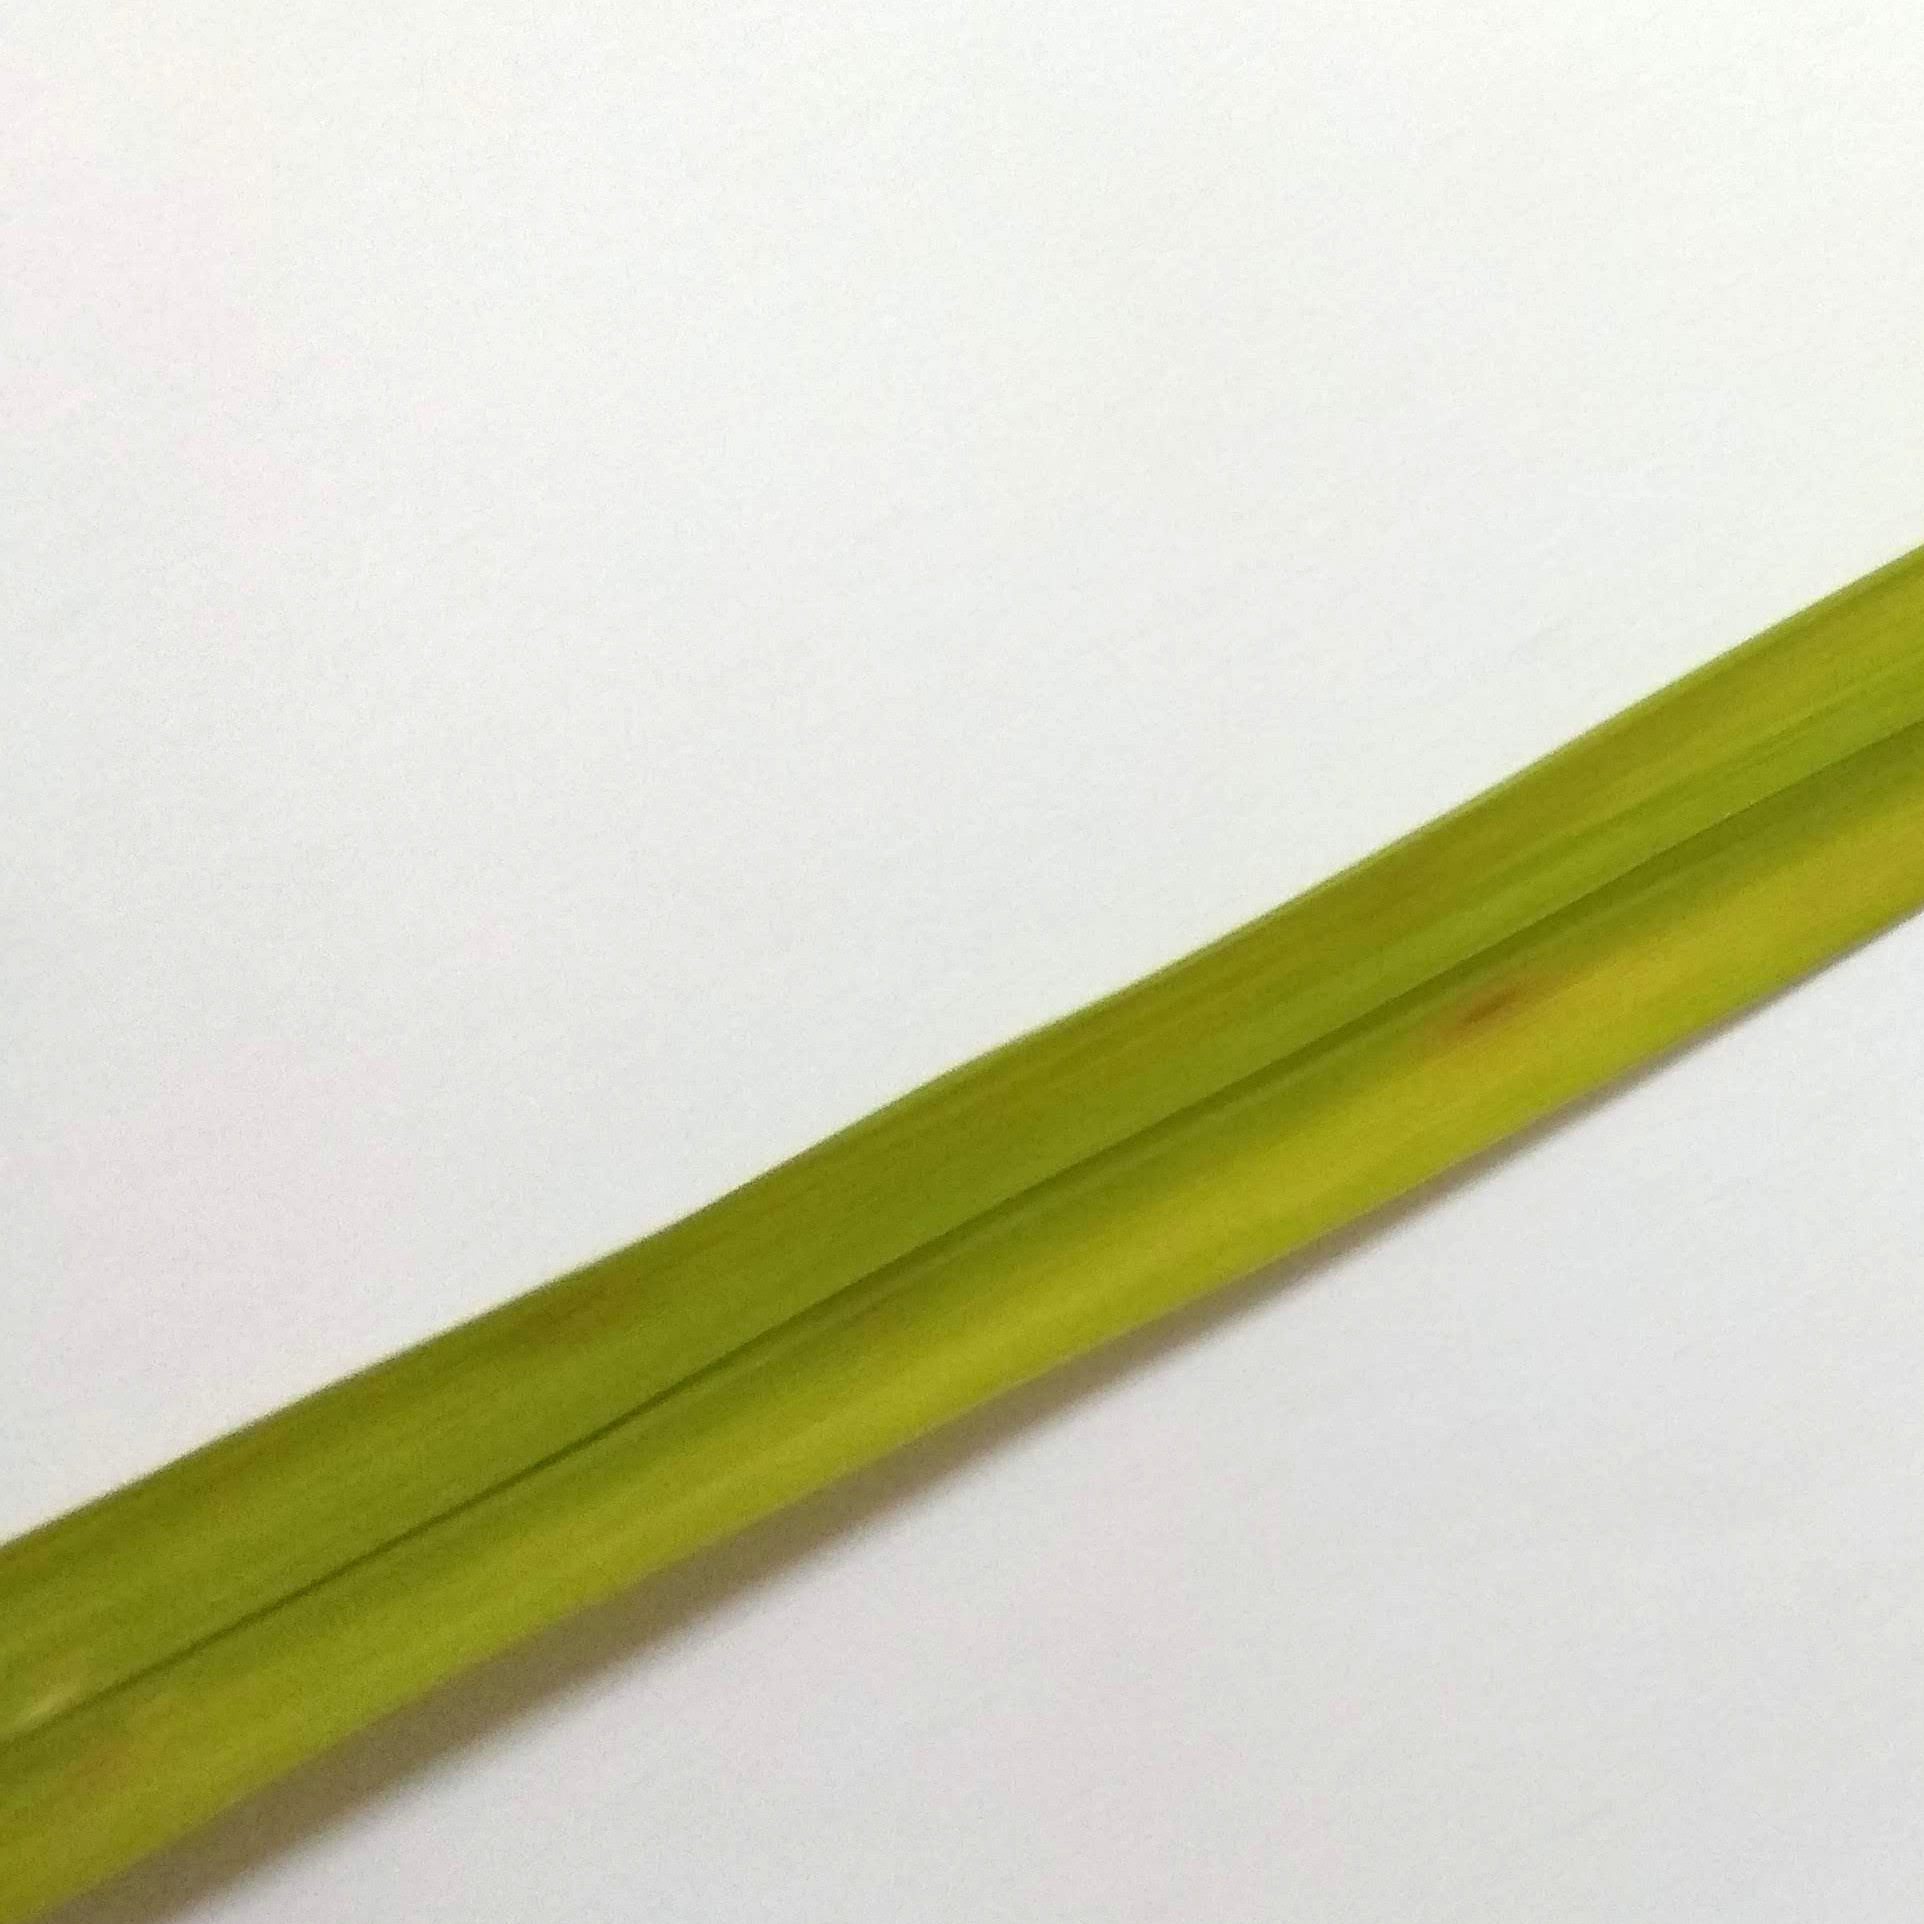brown spot: (1438, 971, 1533, 1048)
